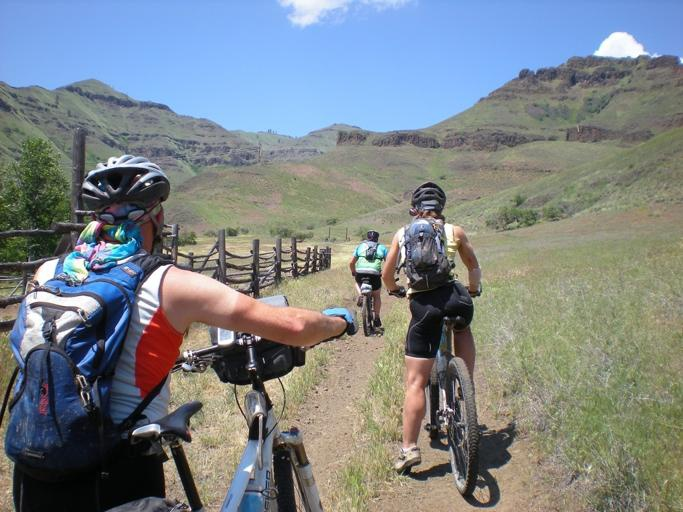non-vehicle: (108, 335, 324, 512), (387, 275, 478, 498), (358, 276, 378, 338)
